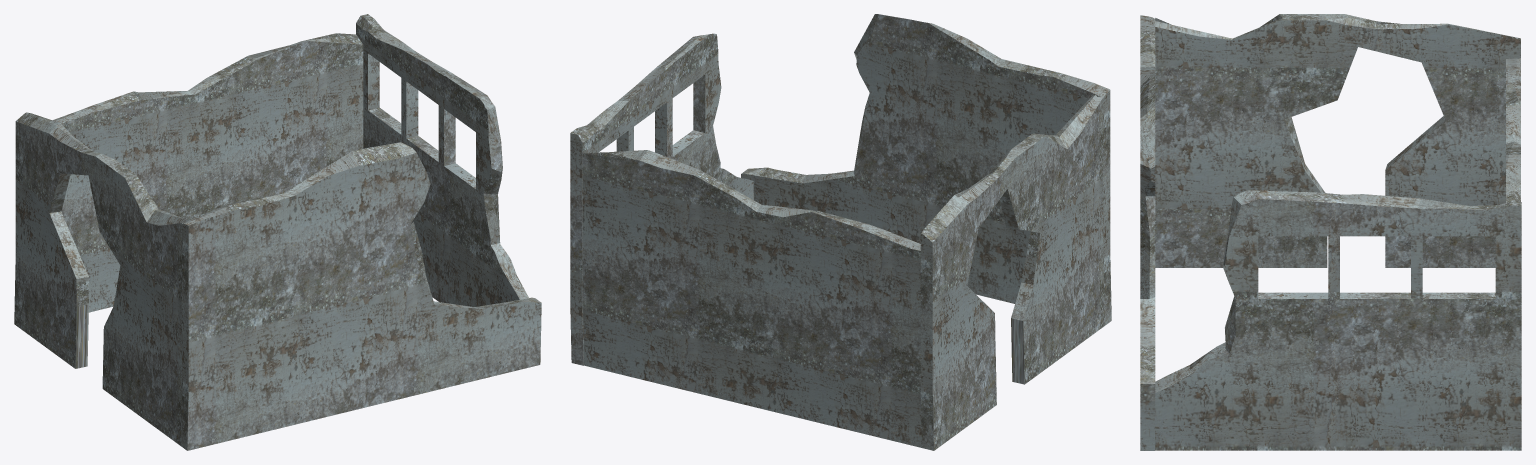
The model's file is nha4 1.fbx.
3 renders of one model, left to right at view 1: azimuth 30°, elevation 25°; view 2: azimuth 150°, elevation 25°; view 3: azimuth 270°, elevation 25°, orthographic. The views are drawn at different scales.
Visible parts, largest first — view 1: Cube, Cube.002, Cube.001, Cube.003; view 2: Cube.002, Cube, Cube.001, Cube.003; view 3: Cube.003, Cube.001, Cube, Cube.002.
Boxes of the visible parts, x1,y1,x2,y2 form: Cube: (180, 142, 541, 450); Cube.002: (53, 33, 363, 312); Cube.001: (14, 112, 188, 445); Cube.003: (356, 14, 528, 306); Cube.002: (582, 150, 921, 447); Cube: (741, 14, 1111, 325); Cube.001: (920, 94, 1104, 450); Cube.003: (570, 33, 753, 365); Cube.003: (1155, 190, 1521, 450); Cube.001: (1155, 14, 1520, 267); Cube: (1140, 15, 1155, 450); Cube.002: (1506, 58, 1520, 202).
Bounding box in the file's own units: 602 × 411 × 511.
1 material, 1 textured.
